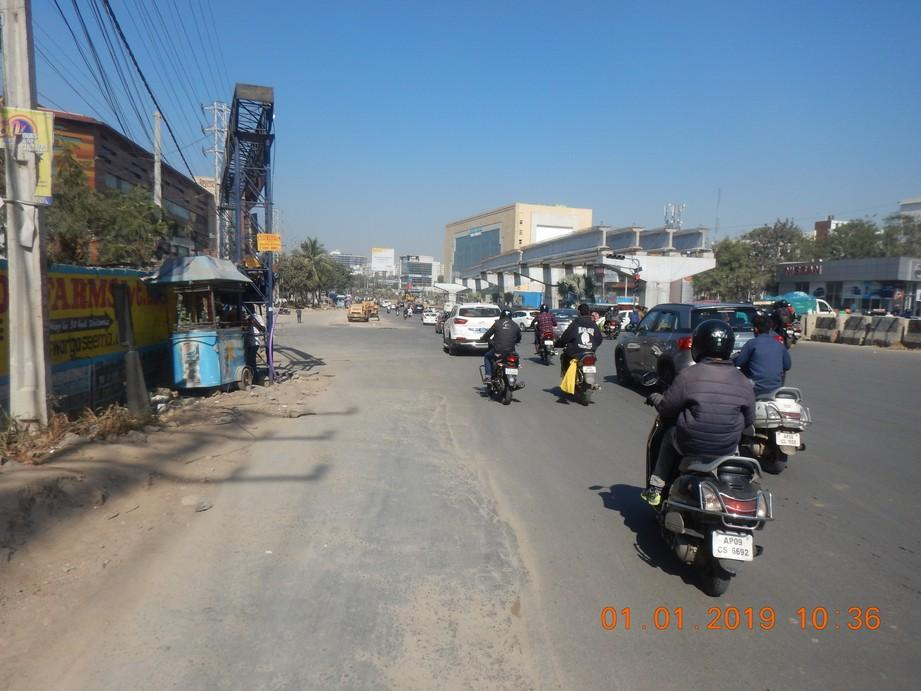plate: (712, 533, 753, 561), (775, 429, 800, 445)
